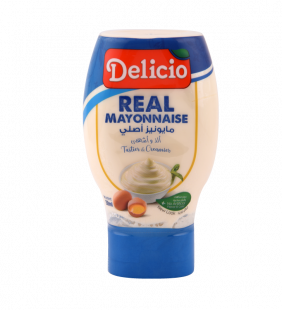DELICIO: (77, 24, 224, 284)
